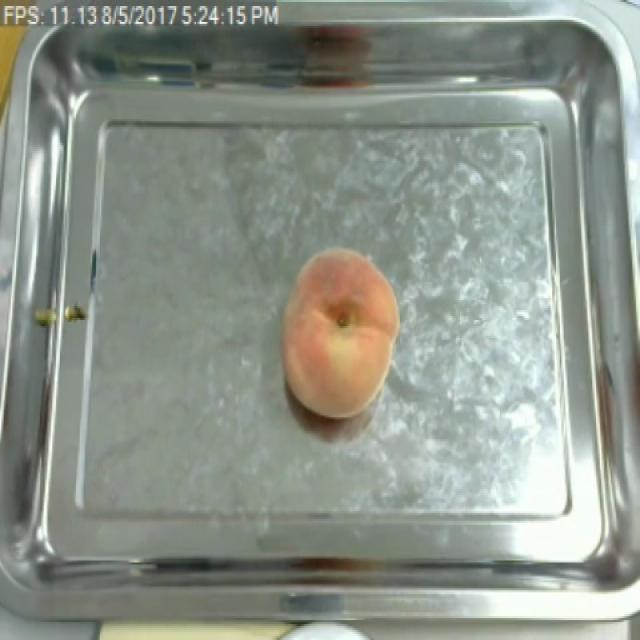Fruit: (270, 242, 406, 426)
